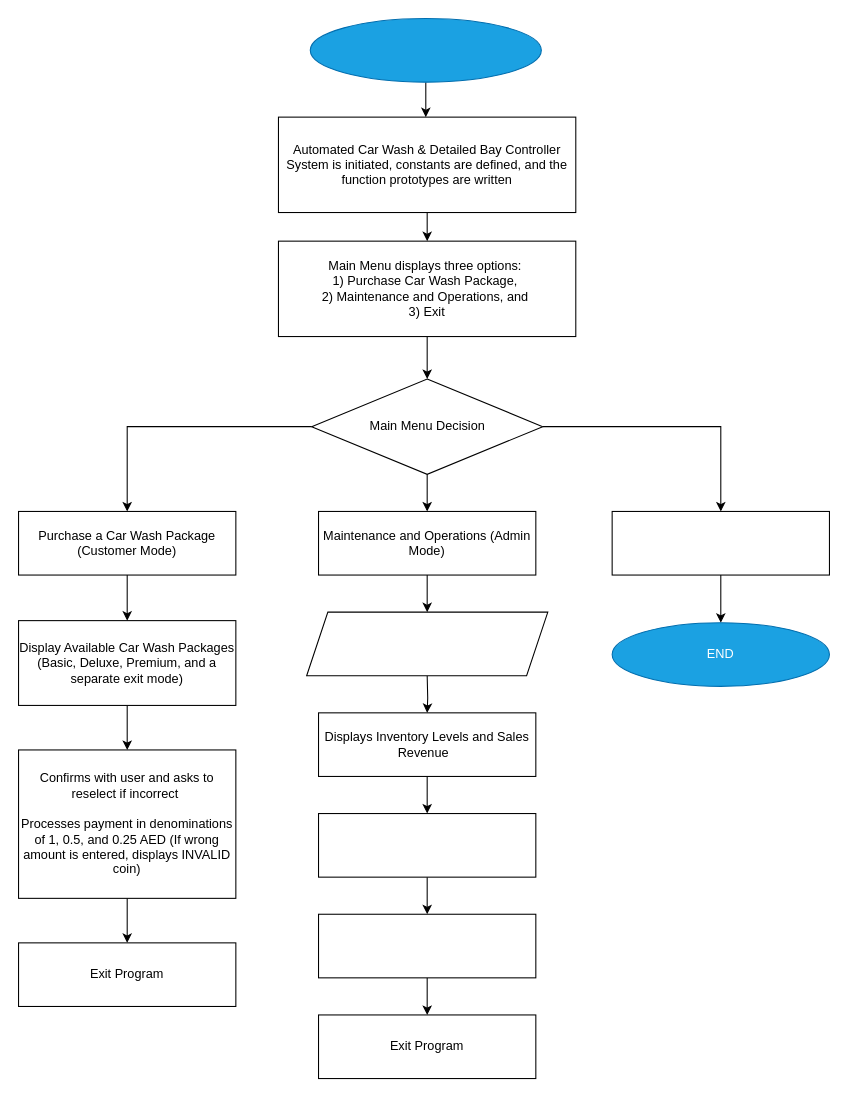
Image size: 848x1097. Some labels were removed from this diagram. Here are the shapes that lost their labels. From the top down, the centre of each, then its label:
the point at 425,49: START
the point at 720,542: Exit main()
the point at 427,643: Evaluates if passcode '1357' is correctly inputted
the point at 426,844: Replenish Ingredient Inventory based on maximum levels
the point at 426,945: Change wash package prices
